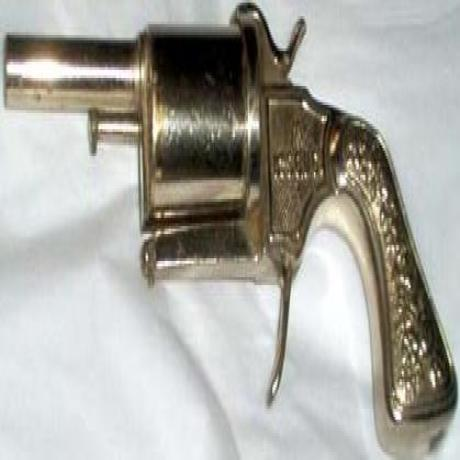weapon: (5, 21, 456, 450)
